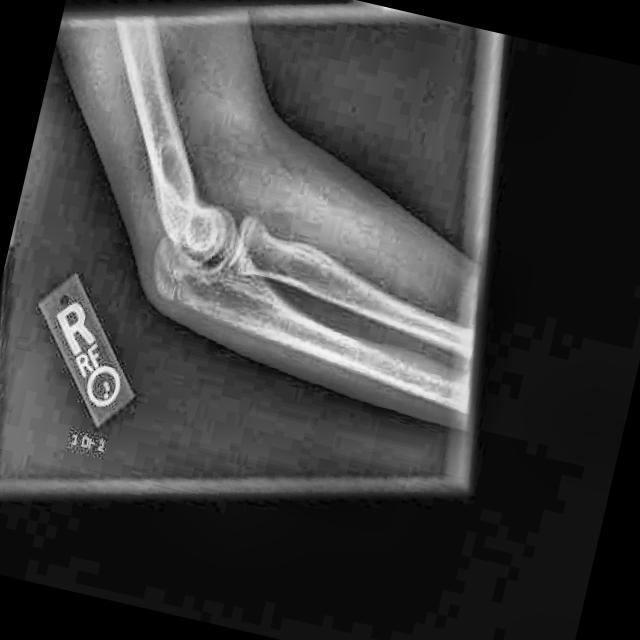elbow positive: (144, 257, 195, 321)
